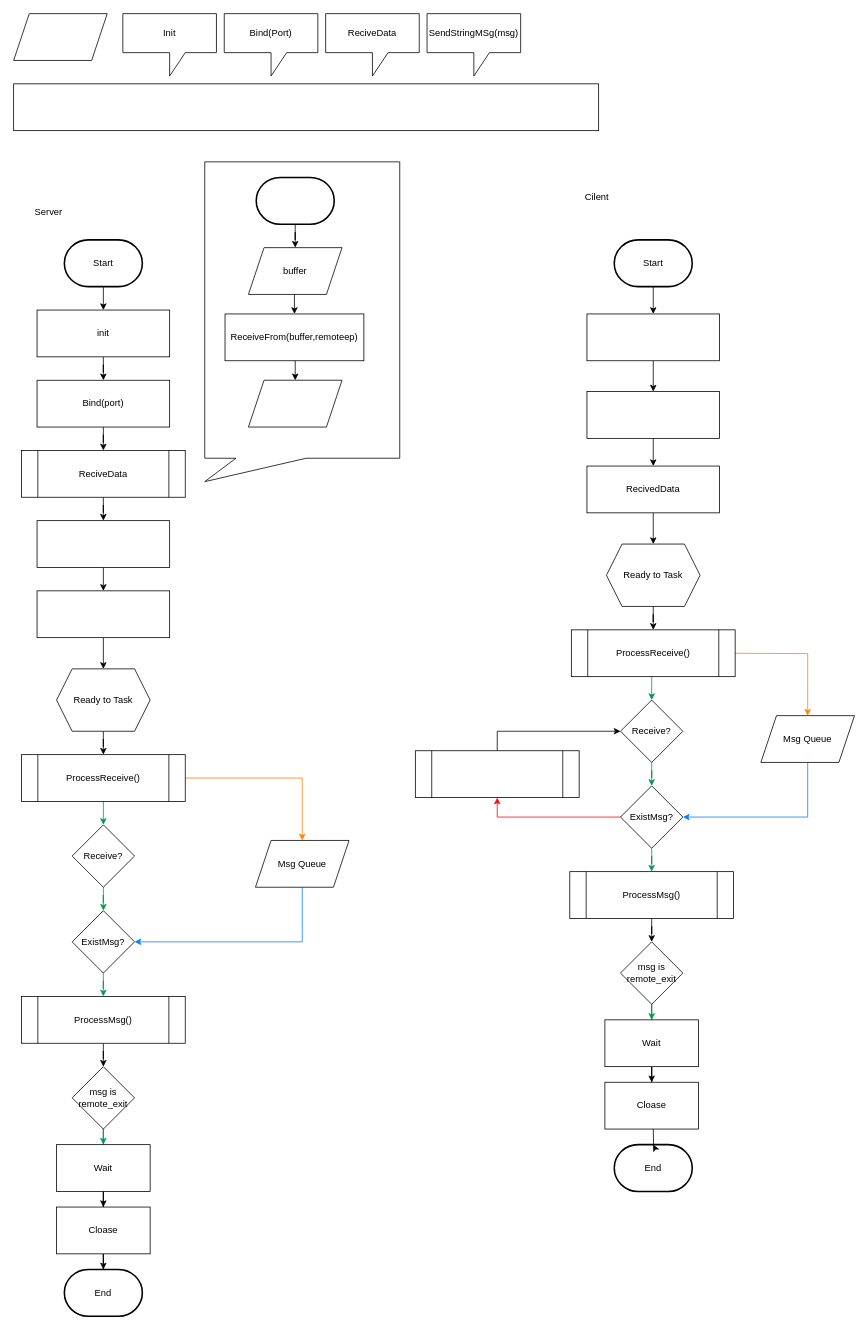
This 868x1331 diagram has some shape labels left out. The centre of each missing label's shape, as x and y in pixels:
Input ID: pixel 653 337
main: pixel 306 107
ReceiveCallBack (Receive): pixel 103 614
ReciveInfo: pixel 295 403
RiciveData: pixel 295 200
Send(reciveinfor.ep,msg): pixel 103 543
SendMessage: pixel 497 774
SendStringMsg (ID,ServerIP,ServerPort): pixel 653 414
UDPSoketWrapper: pixel 60 36
